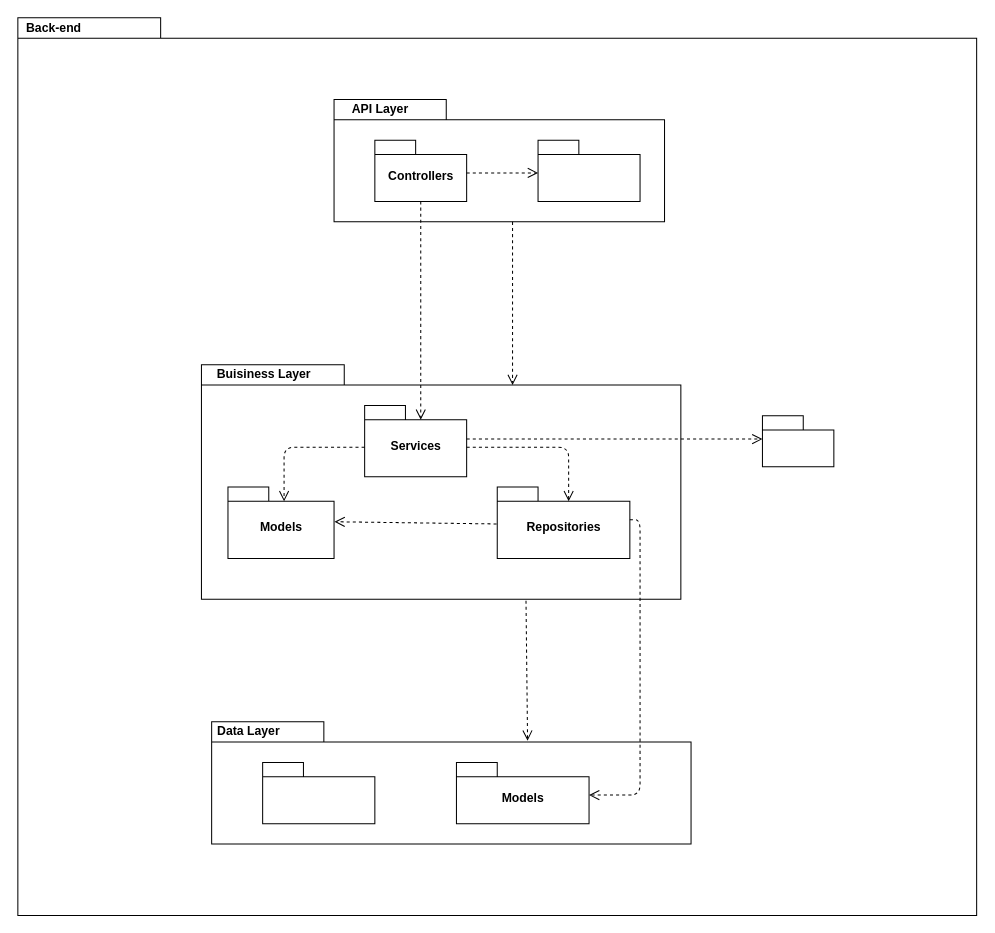
The diagram is 995 pixels wide and 933 high, and some of its shapes have lost their labels. Each missing label, with the centre of its shape:
Attributes: the point at 588,170
Helpers: the point at 797,441
Migrations: the point at 318,792
